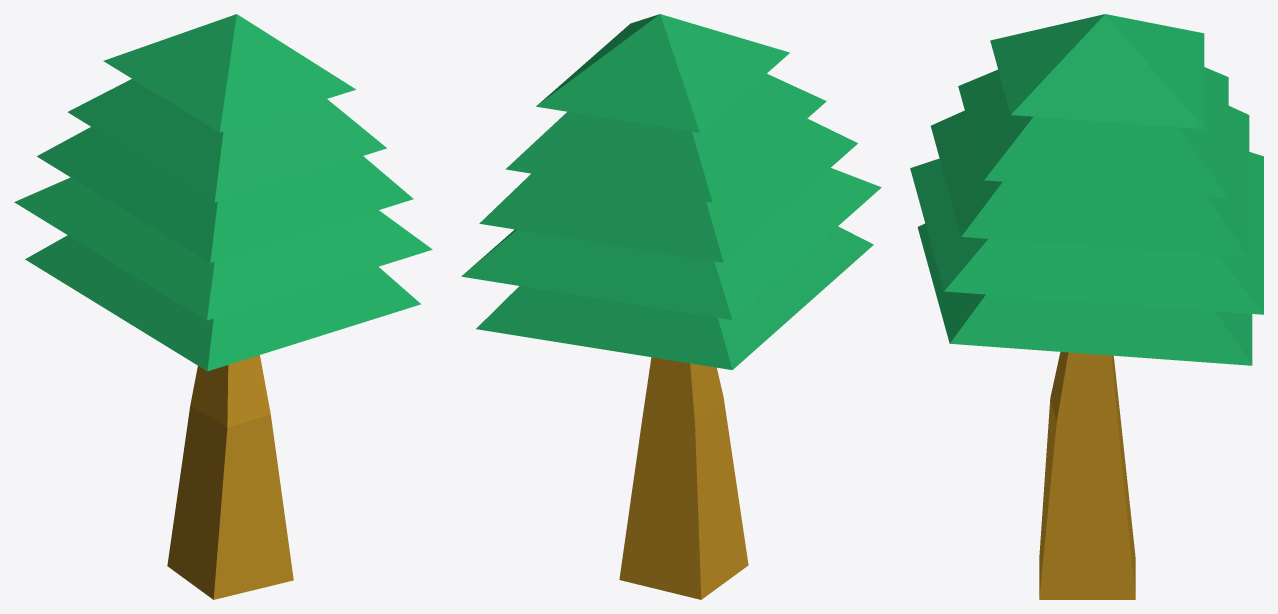
File: tree2.fbx
3 renders of one model, left to right at view 1: azimuth 30°, elevation 25°; view 2: azimuth 150°, elevation 25°; view 3: azimuth 270°, elevation 25°, orthographic. The views are drawn at different scales.
Parts seen in each view (by area): view 1: Cube; view 2: Cube; view 3: Cube.
Part boxes in pixels (x1=…): Cube: x1=14, y1=14, x2=432, y2=599; Cube: x1=461, y1=14, x2=881, y2=599; Cube: x1=910, y1=14, x2=1263, y2=599.
Size of the model in its own units: 265 by 524 by 293.
